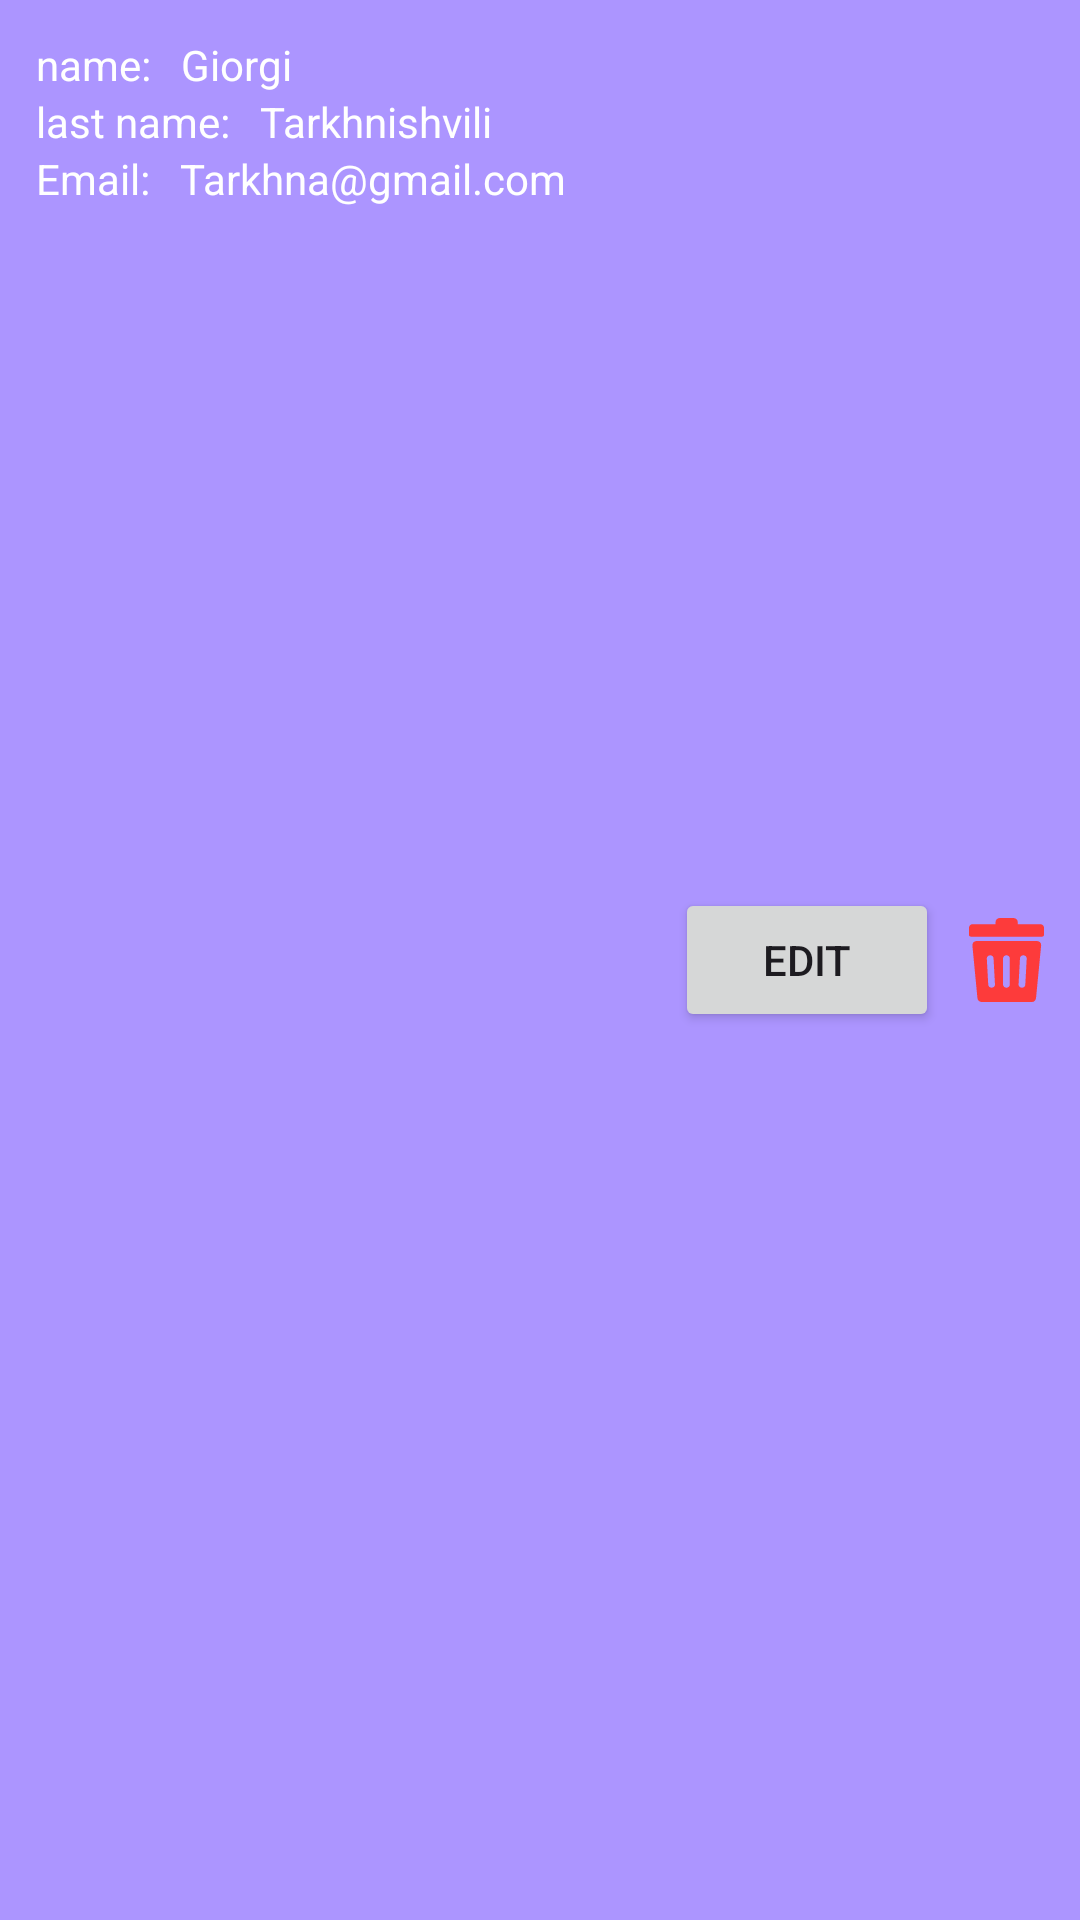

Where icons sit on this 1080×1920 app screen, as rect(x1, y1, x2, y2):
trash can: rect(969, 918, 1044, 1002)
